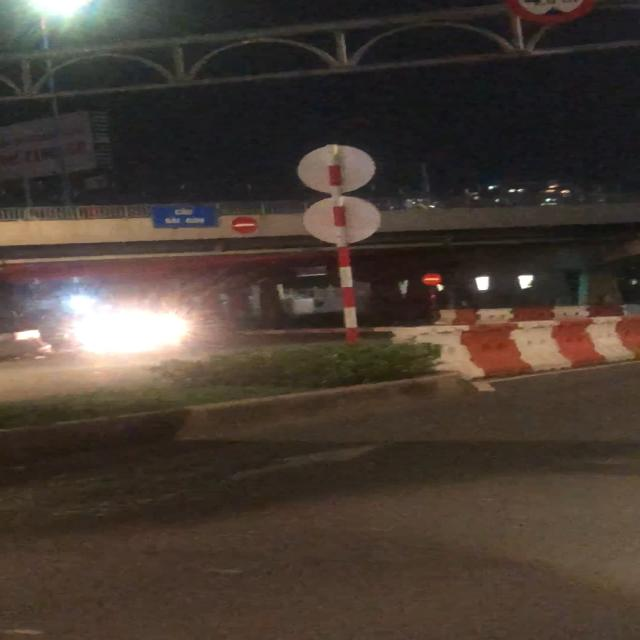Bien bao cam di nguoc chieu: (228, 213, 261, 236), (422, 271, 444, 287)
